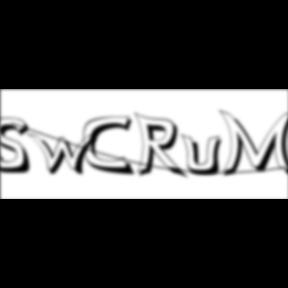C: (84, 115, 138, 178)
R: (134, 112, 192, 182)
S: (1, 117, 37, 176)
u: (181, 132, 229, 178)
w: (27, 132, 105, 178)
